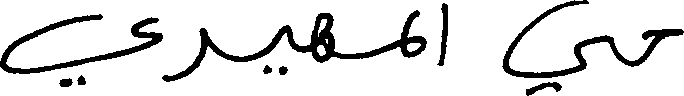ا: (436, 1, 449, 67)
ح: (640, 27, 682, 64)
د: (389, 34, 427, 61)
ر: (162, 25, 207, 82)
م: (398, 7, 418, 48)
ه: (308, 11, 335, 63)
ي: (0, 11, 161, 87), (501, 0, 609, 94), (257, 23, 292, 79)
